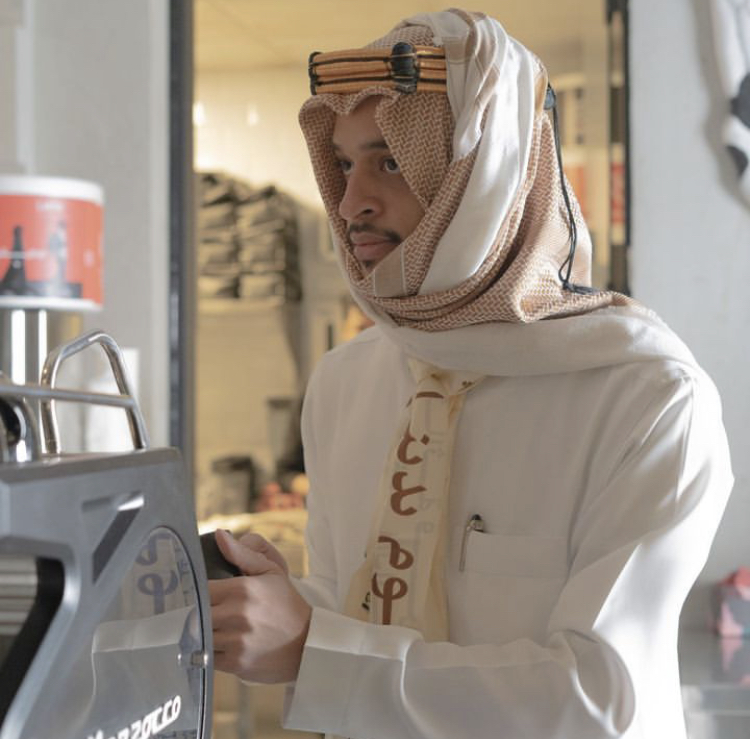Saudi_Founding_Day: (207, 4, 738, 739)
